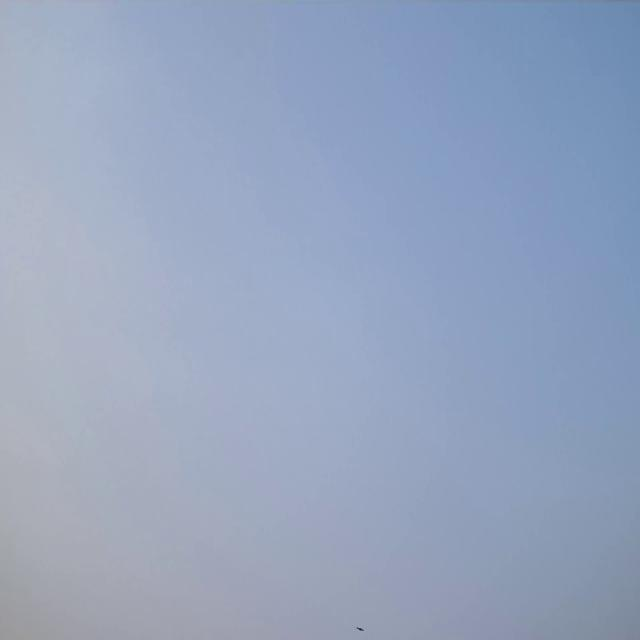UAV: (356, 623, 364, 633)
